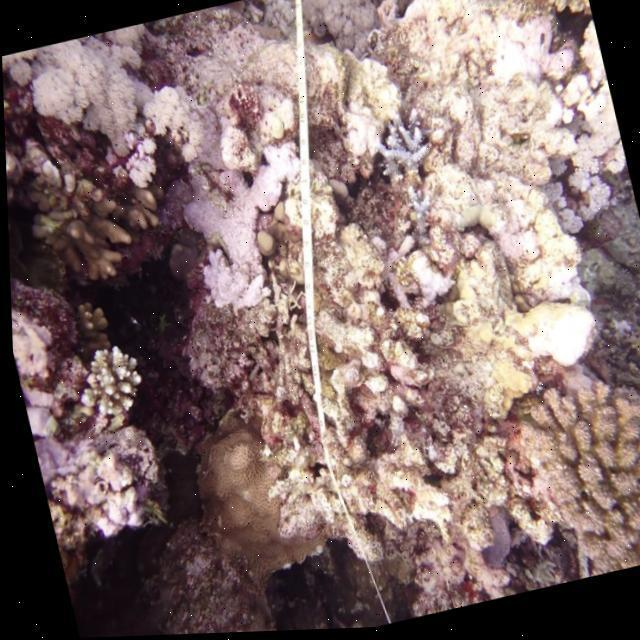Bleached Coral: (106, 1, 308, 334), (5, 25, 164, 170), (32, 428, 180, 572), (236, 0, 429, 73), (356, 117, 444, 195)
Healthy Coral: (518, 370, 640, 551)
